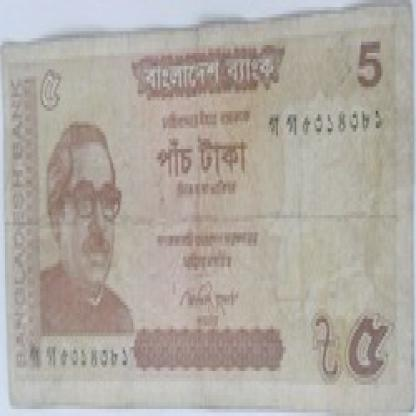Five Taka: (344, 298, 394, 395), (353, 28, 384, 94), (34, 56, 64, 122)
